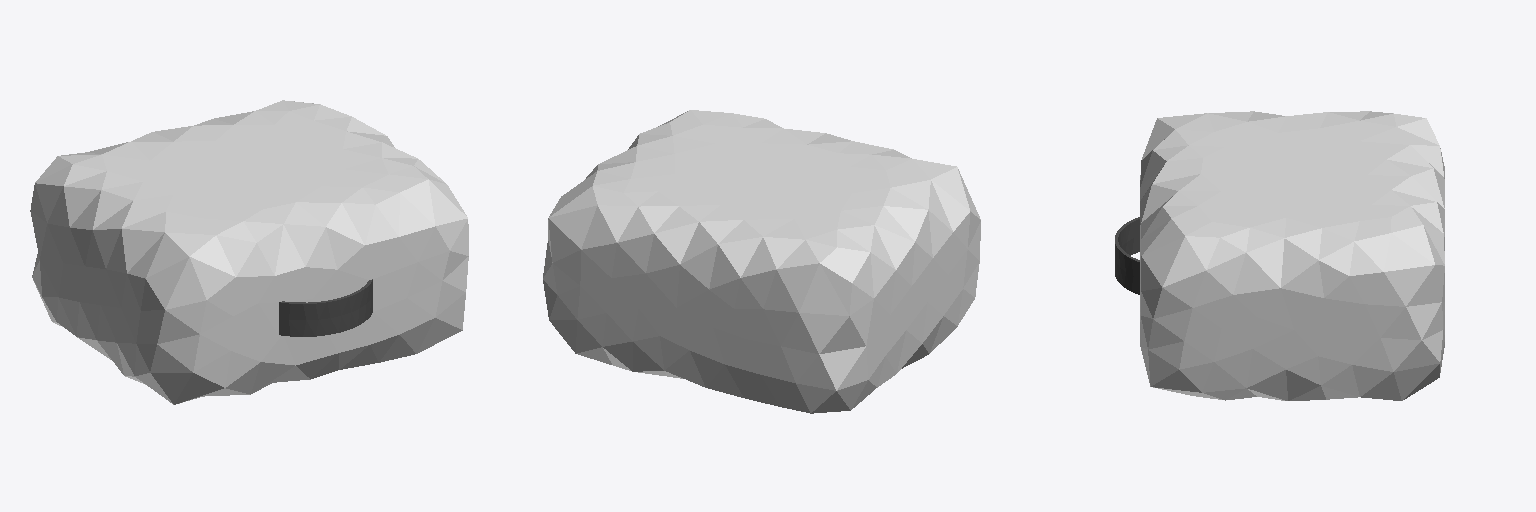
The picture shows the model from 3 angles: view 1: azimuth 30°, elevation 25°; view 2: azimuth 150°, elevation 25°; view 3: azimuth 270°, elevation 25°; orthographic projection.
Parts seen in each view (by area): view 1: top_handle_bag; view 2: top_handle_bag; view 3: top_handle_bag.
Part boxes in pixels (x1,y1,x2,y2): top_handle_bag: (30, 100, 468, 404); top_handle_bag: (543, 110, 980, 413); top_handle_bag: (1115, 111, 1444, 400).
Size of the model in its own units: 0.5 by 0.25 by 0.455.
Materials: 1 (1 with a texture image).